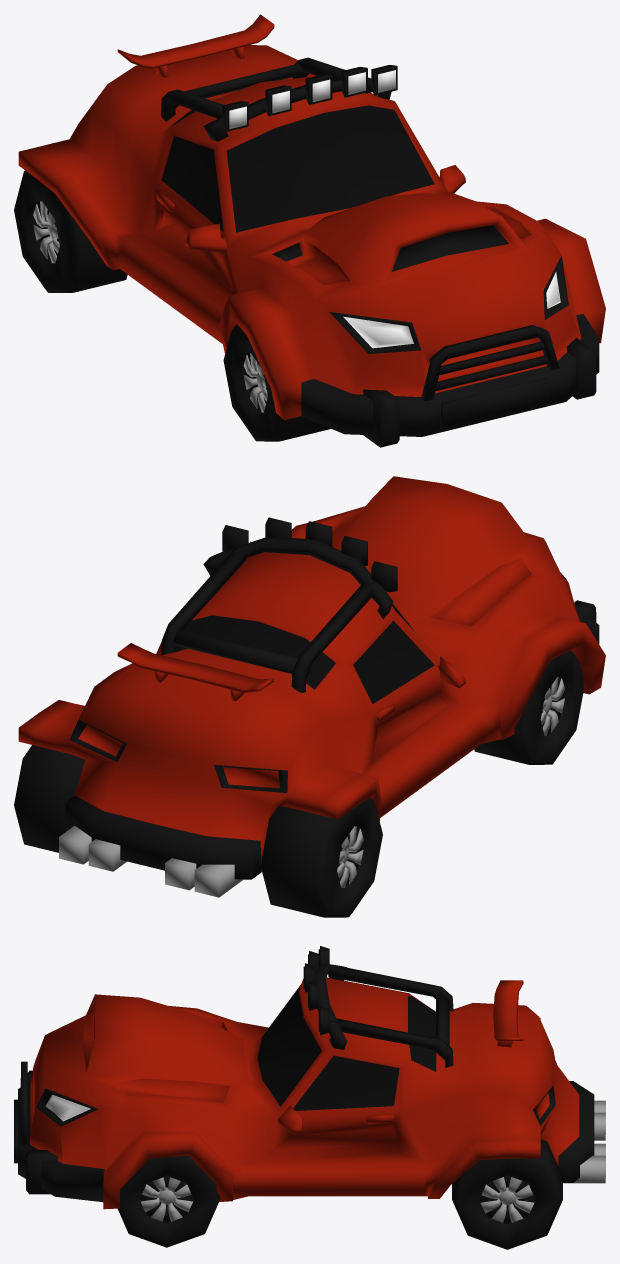
Rendered from google.obj.
3 renders of one model, top to bottom at view 1: azimuth 30°, elevation 25°; view 2: azimuth 150°, elevation 25°; view 3: azimuth 270°, elevation 25°, orthographic. The views are drawn at different scales.
Visible parts, largest first — view 1: Cube, Generic; view 2: Cube, Generic; view 3: Cube, Generic.
Part boxes in pixels (x1,y1,x2,y2): Cube: [18, 45, 605, 436]; Generic: [14, 14, 596, 447]; Cube: [18, 476, 605, 887]; Generic: [14, 537, 596, 917]; Cube: [18, 946, 594, 1224]; Generic: [14, 964, 605, 1249].
Size of the model in its own units: 3.96 by 3.01 by 7.31.
